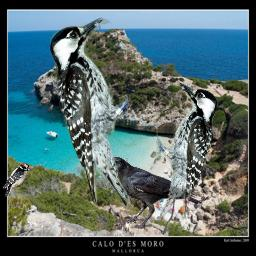Crow: (102, 156, 202, 229)
Woodpecker: (49, 17, 128, 209), (156, 81, 217, 220), (3, 163, 33, 197)
